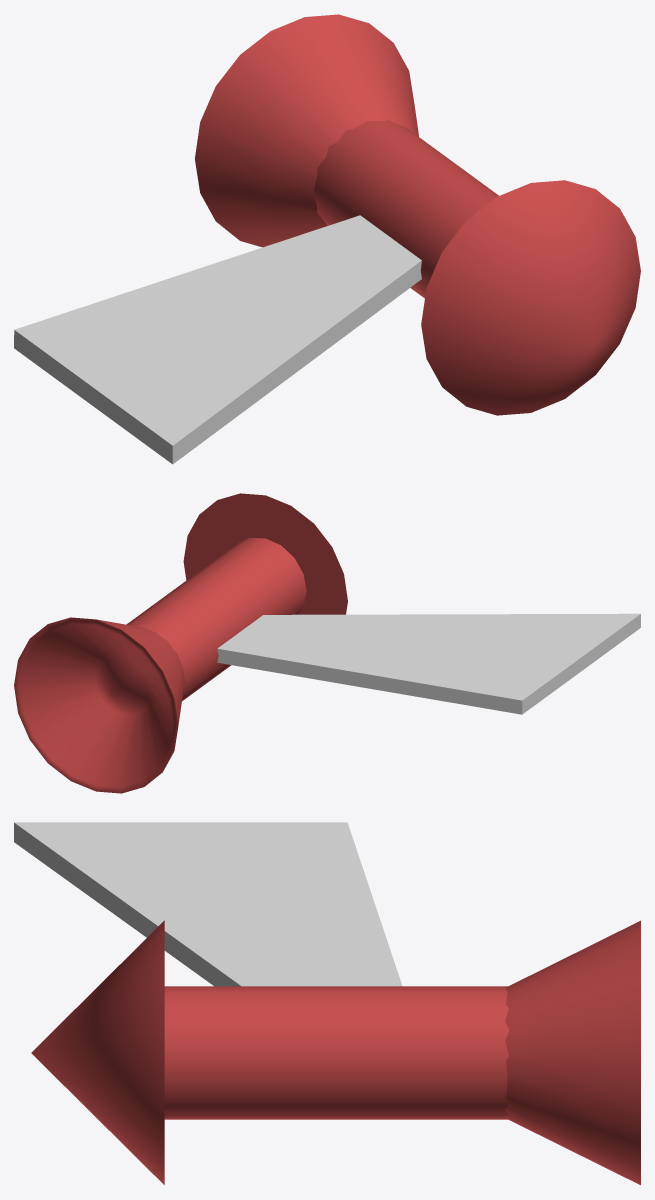
Rendered from hippo_rocket.fbx.
3 views of the same model, one above another, from view 1: azimuth 30°, elevation 25°; view 2: azimuth 150°, elevation 25°; view 3: azimuth 270°, elevation 25° (orthographic). The views are drawn at different scales.
Parts seen in each view (by area): view 1: pCube1, pCone1, pasted__pCone1, pCylinder1; view 2: pCube1, pasted__pCone1, pCylinder1, pCone1; view 3: pCylinder1, pCube1, pasted__pCone1, pCone1.
Boxes of the visible parts, left/top/right/bottom form: pCube1: left=14, top=215, right=421, bottom=464; pCone1: left=421, top=180, right=640, bottom=415; pasted__pCone1: left=195, top=14, right=418, bottom=247; pCylinder1: left=313, top=120, right=498, bottom=298; pCube1: left=217, top=613, right=640, bottom=714; pasted__pCone1: left=14, top=617, right=184, bottom=793; pCylinder1: left=126, top=538, right=306, bottom=700; pCone1: left=183, top=493, right=347, bottom=614; pCylinder1: left=164, top=986, right=509, bottom=1119; pCube1: left=14, top=822, right=402, bottom=986; pasted__pCone1: left=505, top=920, right=640, bottom=1185; pCone1: left=31, top=920, right=164, bottom=1184.
Size of the model in its own units: 9.82 by 4 by 9.39.
